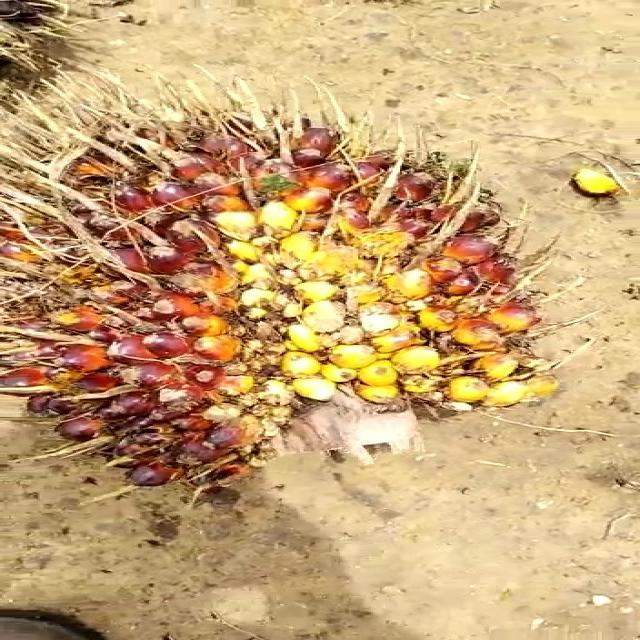palm oil: (5, 107, 561, 506)
